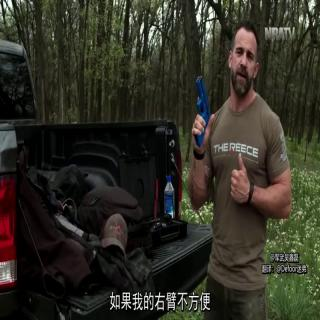gun: (190, 70, 213, 151)
